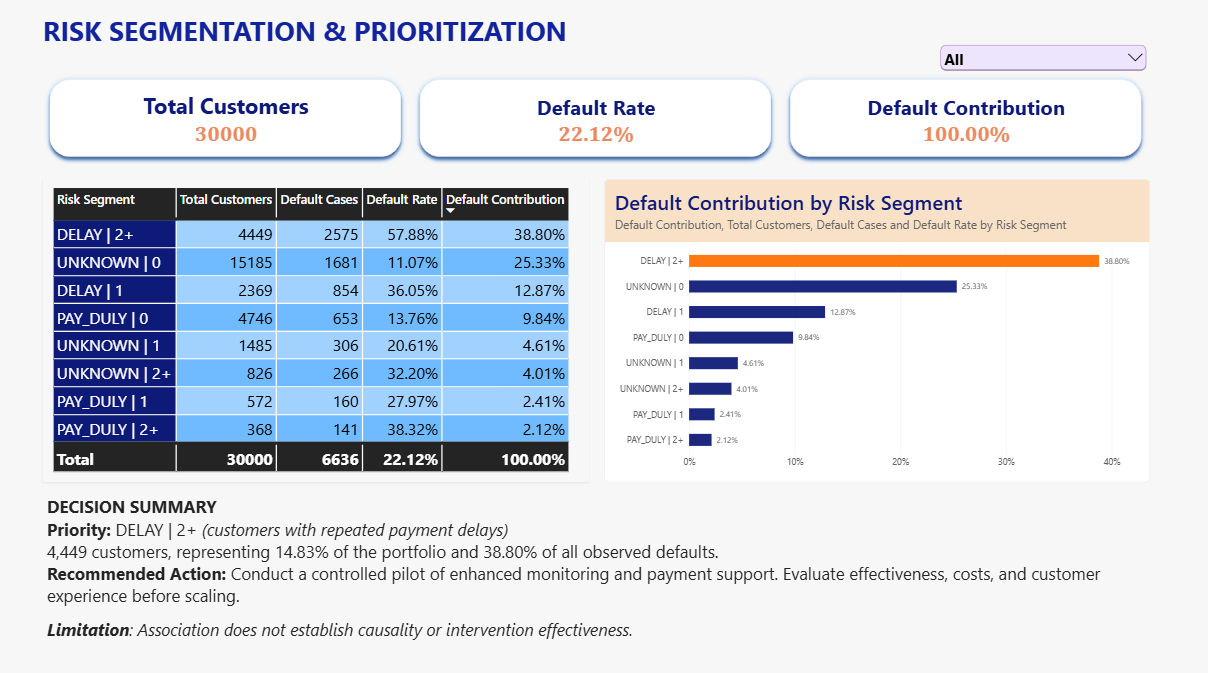

Layout of this report page (visuals, bound fields, positions):
{"tool":"powerbi","page":{"name":"Risk Segmentation","canvas":[1920,1080],"ordinal":1},"visuals":[{"type":"tableEx","fields":{"Values":["Customers.Risk Segment","Customers.Total Customers","Customers.Default Cases","Customers.Default Rate","Customers.Default Contribution"]},"box":[72,288,864,480],"z":0},{"type":"clusteredBarChart","title":"Default Contribution by Risk Segment","fields":{"Category":["Customers.Risk Segment"],"Y":["Customers.Default Contribution"]},"box":[960,288,864,480],"z":1000},{"type":"textbox","box":[10,580,280,280],"z":2000},{"type":"textbox","box":[77.5,790,1772.5,255],"z":3000},{"type":"textbox","box":[72,24,984,96],"z":4000},{"type":"slicer","fields":{"Values":["Customers.September Status Group"]},"box":[1488,72,336,48],"z":5000},{"type":"cardVisual","fields":{"Data":["Customers.Total Customers","Customers.Default Rate","Customers.Default Contribution"]},"box":[72,120,1752,144],"z":8001}]}

Visuals, with their boxes in screenshot pixels (x1, y1, x2, y2), scaled from the page's 1920x1080 canvas onto the 1208x673 screenshot:
tableEx - Customers.Risk Segment x Customers.Total Customers: [left=45, top=179, right=589, bottom=479]
"Default Contribution by Risk Segment" clusteredBarChart: [left=604, top=179, right=1148, bottom=479]
textbox: [left=6, top=361, right=182, bottom=536]
textbox: [left=49, top=492, right=1164, bottom=651]
textbox: [left=45, top=15, right=664, bottom=75]
slicer - Customers.September Status Group: [left=936, top=45, right=1148, bottom=75]
cardVisual - Customers.Total Customers x Customers.Default Rate: [left=45, top=75, right=1148, bottom=165]
